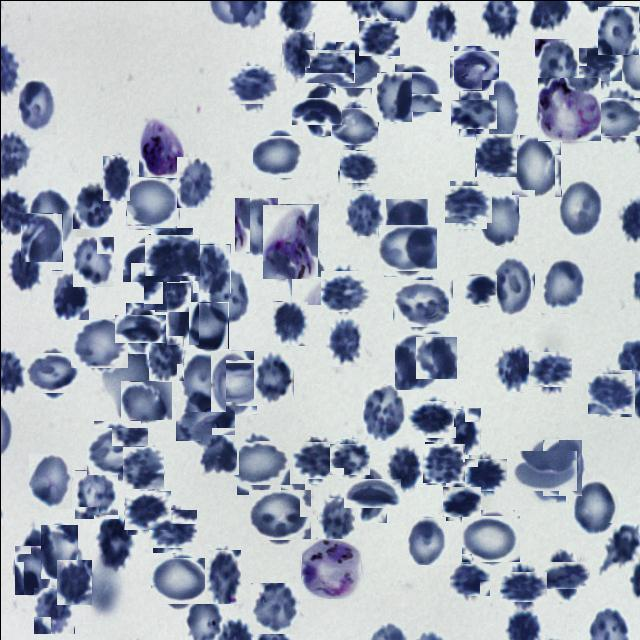red blood cell: (511, 133, 561, 196), (250, 486, 306, 542), (206, 354, 260, 410), (89, 424, 144, 478), (72, 316, 126, 370), (231, 435, 285, 489), (395, 275, 449, 329), (556, 178, 603, 239), (380, 220, 433, 273), (27, 187, 73, 248), (126, 175, 178, 228), (394, 332, 442, 389), (154, 554, 206, 606), (464, 512, 516, 564), (519, 444, 571, 496), (234, 196, 278, 257), (492, 254, 534, 316), (481, 79, 519, 146), (573, 478, 618, 534), (362, 383, 406, 440), (534, 38, 578, 95), (181, 354, 225, 411), (179, 396, 229, 446), (250, 582, 299, 633), (28, 452, 72, 508), (206, 267, 250, 323), (541, 258, 586, 312), (147, 230, 196, 278), (255, 132, 303, 180), (390, 67, 438, 115), (126, 238, 174, 286), (542, 438, 582, 495), (385, 197, 428, 250), (594, 92, 640, 141), (144, 262, 190, 310), (285, 249, 325, 304), (72, 235, 115, 286), (18, 77, 56, 134), (29, 349, 75, 396), (74, 469, 118, 518), (93, 514, 132, 569), (253, 350, 293, 403), (330, 46, 376, 92), (322, 268, 368, 314), (228, 62, 274, 107), (450, 47, 496, 92), (20, 212, 62, 261), (597, 5, 639, 54), (599, 522, 640, 572), (166, 280, 198, 344), (120, 380, 172, 419), (40, 524, 77, 578), (325, 318, 364, 368), (204, 549, 240, 603), (480, 194, 518, 245), (176, 156, 214, 207), (588, 370, 632, 414), (493, 344, 534, 391), (33, 586, 74, 633), (406, 516, 446, 564), (51, 270, 89, 320), (150, 506, 193, 550), (125, 488, 168, 532), (349, 472, 394, 514), (343, 189, 384, 235), (72, 181, 112, 228), (188, 301, 228, 348), (192, 243, 230, 292), (410, 397, 453, 440), (294, 438, 336, 481), (415, 335, 457, 378), (14, 544, 50, 594), (386, 442, 422, 492), (376, 71, 412, 121), (446, 183, 488, 225), (308, 44, 350, 86), (474, 134, 516, 176), (122, 446, 164, 488), (333, 105, 376, 146), (423, 442, 464, 483), (272, 300, 308, 345), (542, 554, 582, 594), (530, 349, 570, 389), (120, 308, 160, 348), (296, 90, 336, 130), (317, 496, 355, 538), (148, 335, 183, 380), (56, 559, 91, 604), (281, 30, 315, 76), (503, 566, 542, 606), (200, 434, 238, 474), (358, 18, 398, 56), (448, 407, 480, 454), (580, 44, 618, 83), (466, 455, 504, 493), (454, 94, 492, 132), (8, 247, 41, 290), (425, 0, 458, 41), (450, 560, 487, 596), (331, 440, 367, 476), (340, 148, 376, 184), (102, 154, 130, 200), (443, 484, 478, 518), (464, 274, 496, 304)
schizont: (138, 117, 184, 176)
trophozoite: (262, 203, 318, 278), (537, 77, 600, 142), (300, 538, 360, 598)
